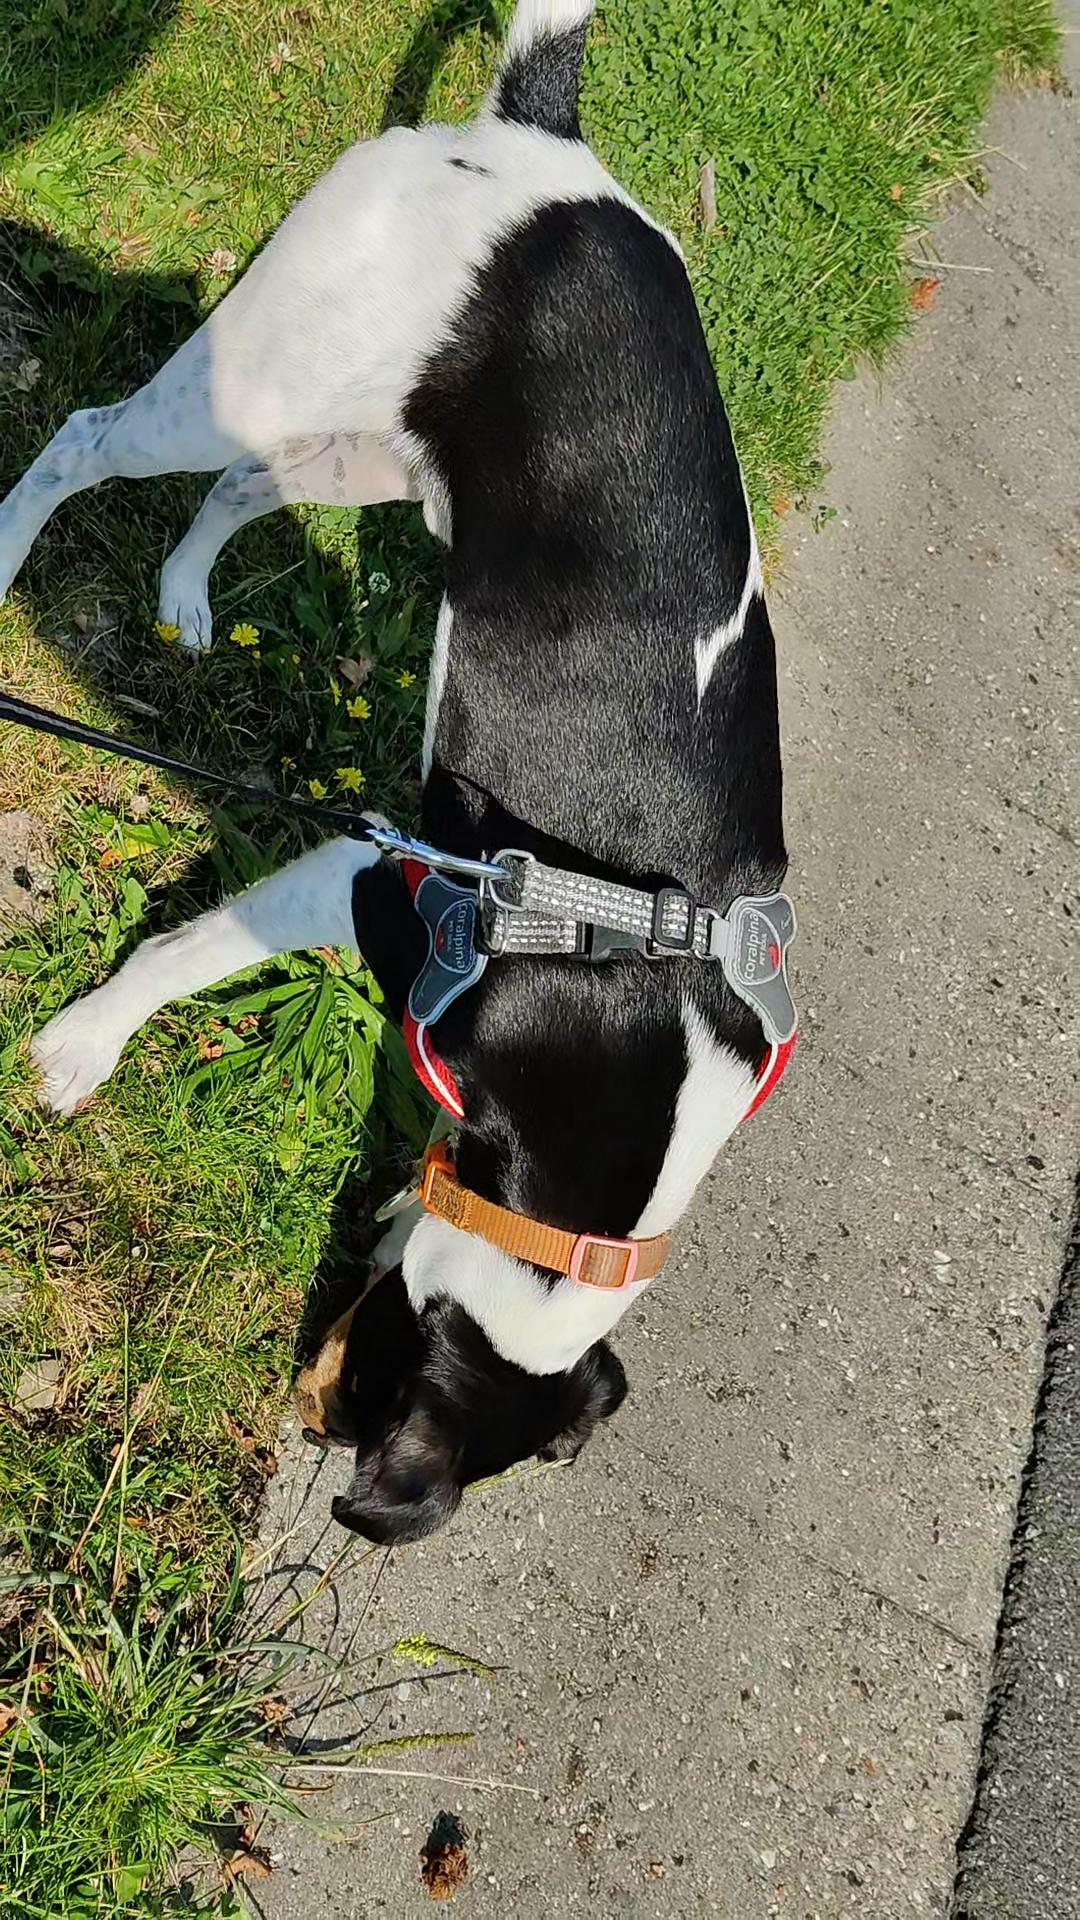Dog: (0, 0, 818, 1563)
